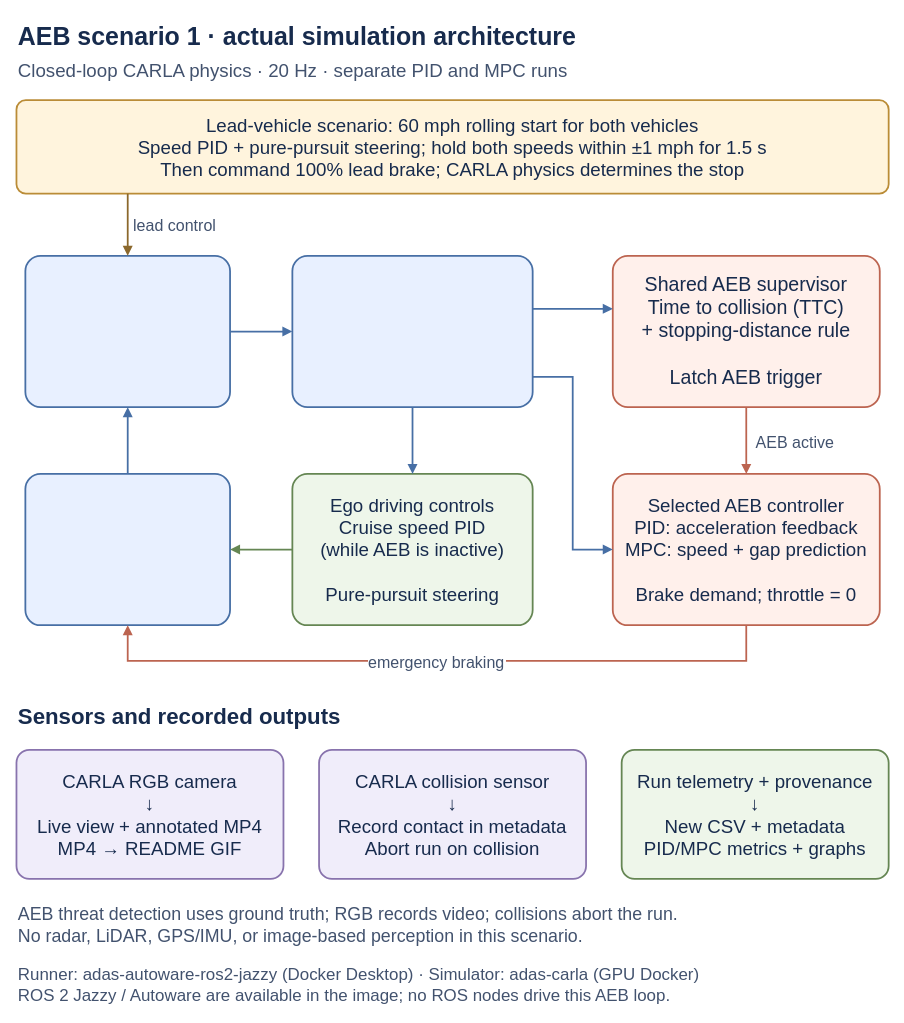
The diagram is 904 pixels wide and 1023 high, and some of its shapes have lost their labels. The shapes that lost their labels are listed below. From the top down, each one's centre as x and y in pixels, then its label:
the point at 127,331: CARLA world Town10HD_Opt Ego + lead physics Fixed lane route
the point at 412,331: CARLA ground truth Positions + speeds Ego acceleration Gap + closing speed
the point at 127,549: Ego control Throttle, brake, steer AEB overrides cruise Steering stays active
